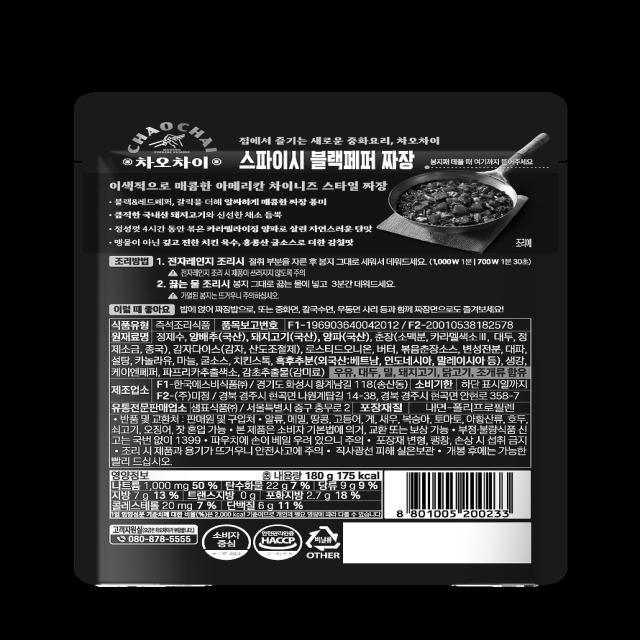Nutrition Label: (95, 464, 390, 526)
